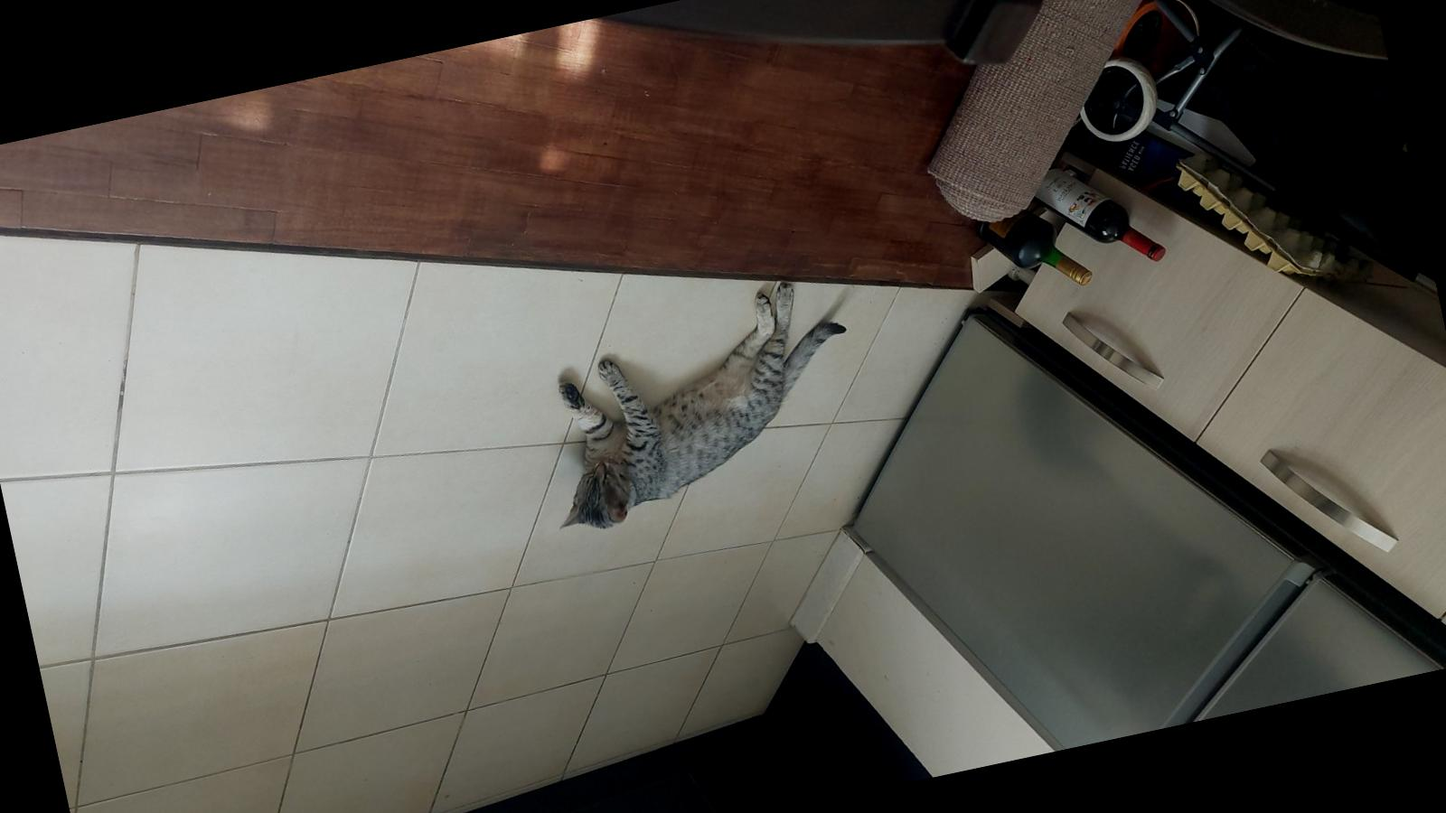macka: (518, 273, 877, 538)
